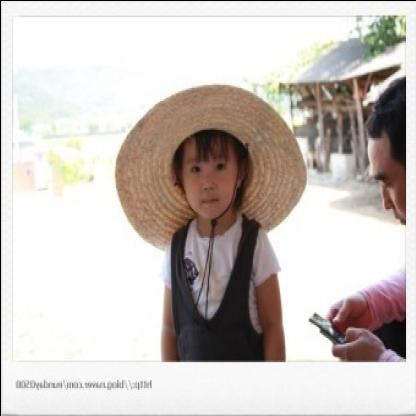hat: (115, 81, 311, 252)
